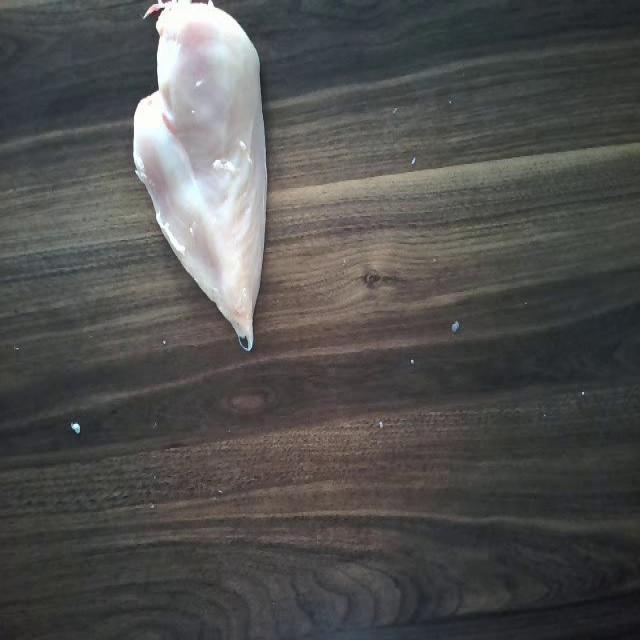breast: (134, 0, 269, 348)
